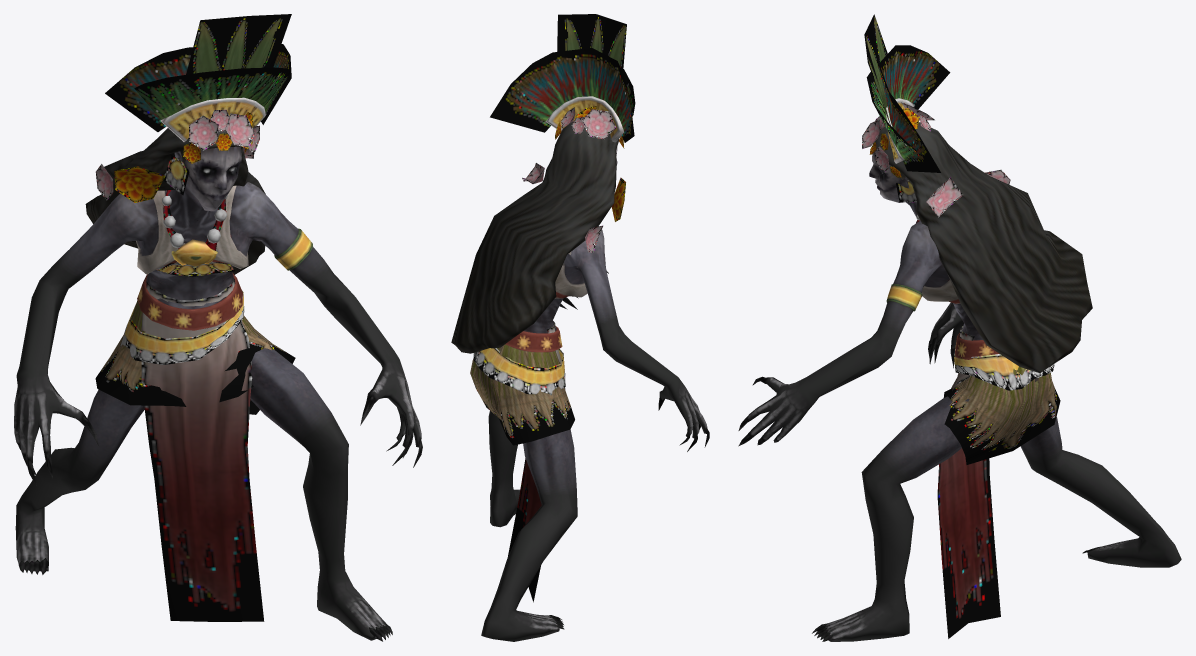
File: body-centzonhuitznahua-v1.glb
The picture shows the model from 3 angles, left to right: view 1: azimuth 30°, elevation 25°; view 2: azimuth 150°, elevation 25°; view 3: azimuth 270°, elevation 25°; orthographic projection. The views are drawn at different scales.
Bounding box in the file's own units: 1.06 × 2.23 × 1.53.
1 material, 1 textured.
